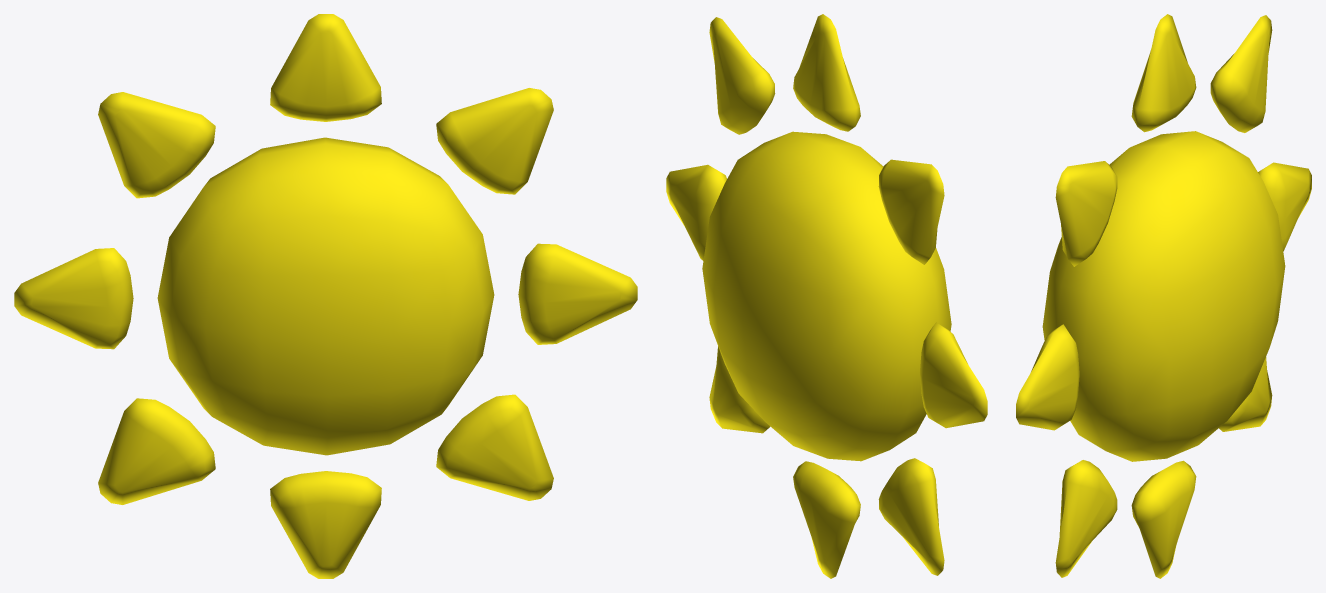
File: SOL.obj
The picture shows the model from 3 angles, left to right: view 1: azimuth 30°, elevation 25°; view 2: azimuth 150°, elevation 25°; view 3: azimuth 270°, elevation 25°; orthographic projection.
Parts seen in each view (by area): view 1: SOL; view 2: SOL; view 3: SOL.
Boxes of the visible parts, <box> form: SOL: <box>14,14,637,578</box>; SOL: <box>666,14,987,578</box>; SOL: <box>1016,14,1311,578</box>.
Size of the model in its own units: 6.26 by 7.13 by 3.42.
Materials: 1 (1 with a texture image).
